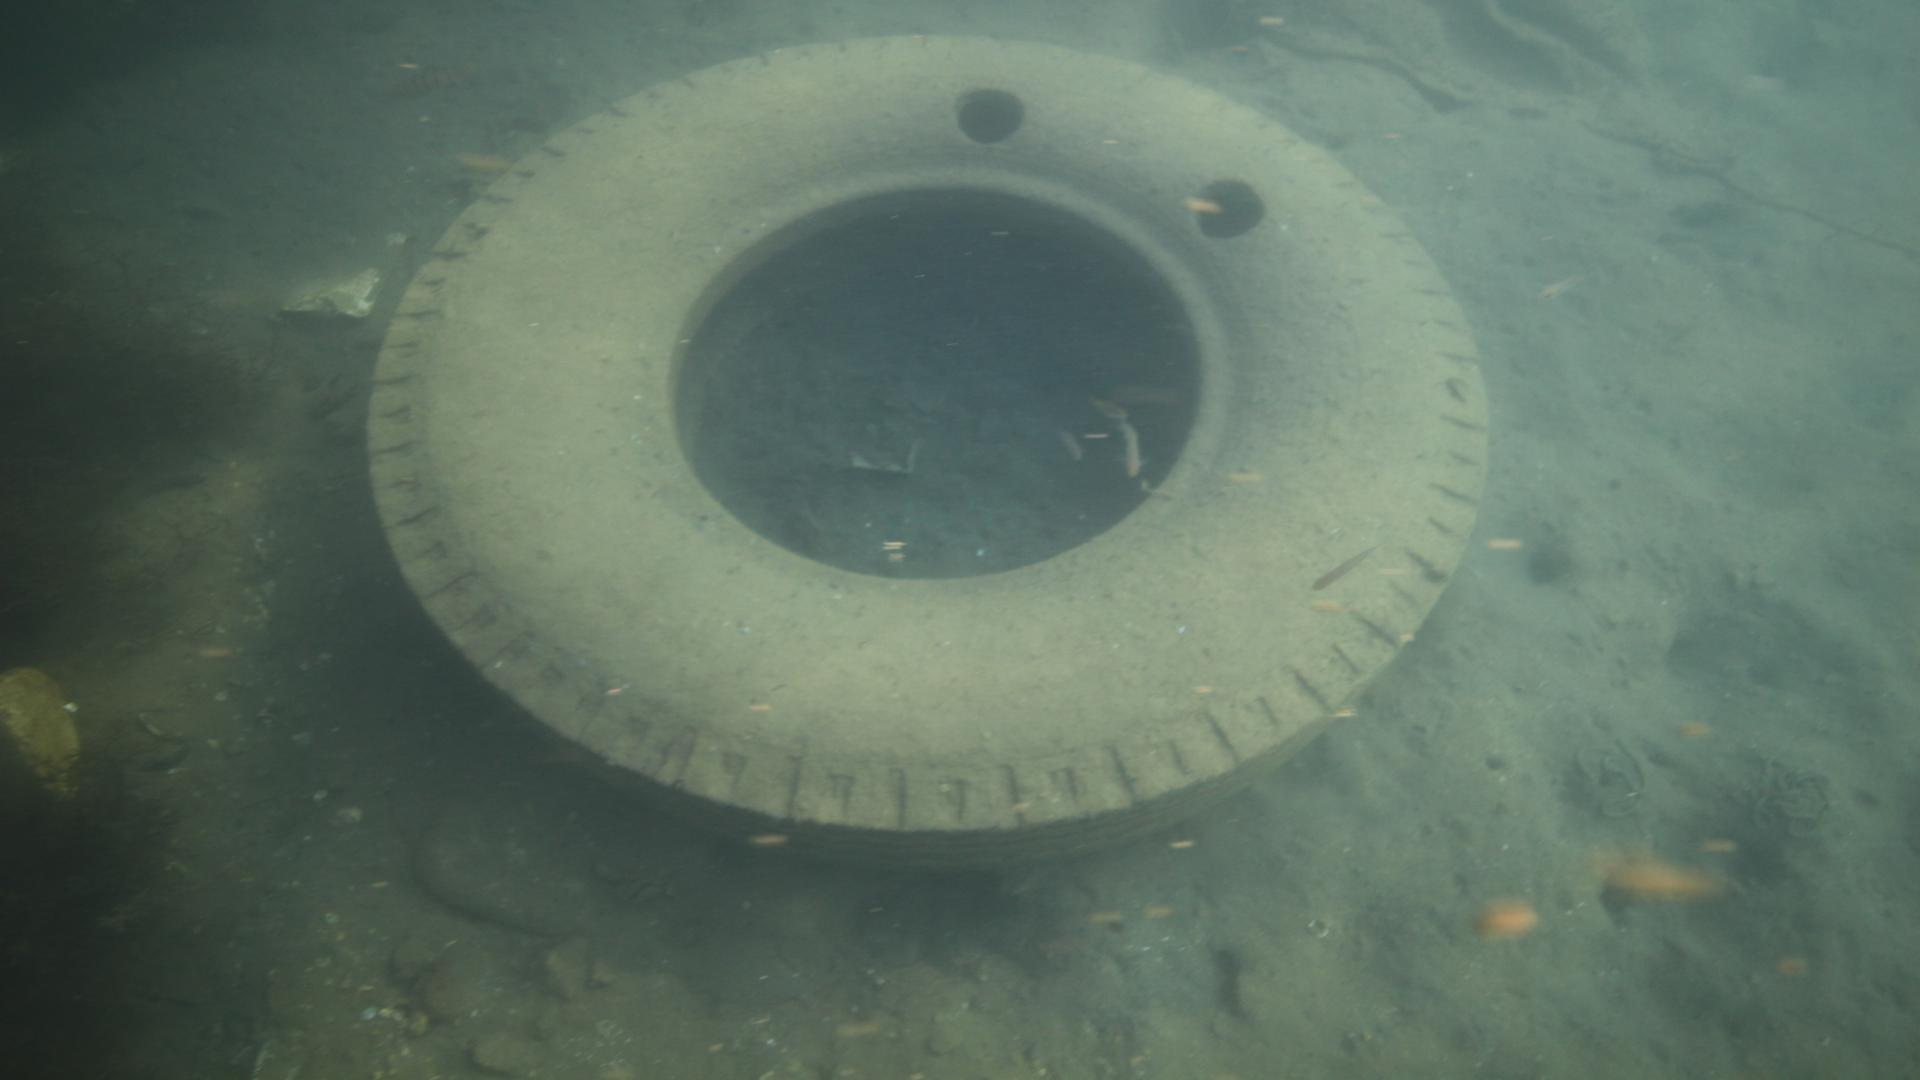tire: (367, 22, 1489, 856)
